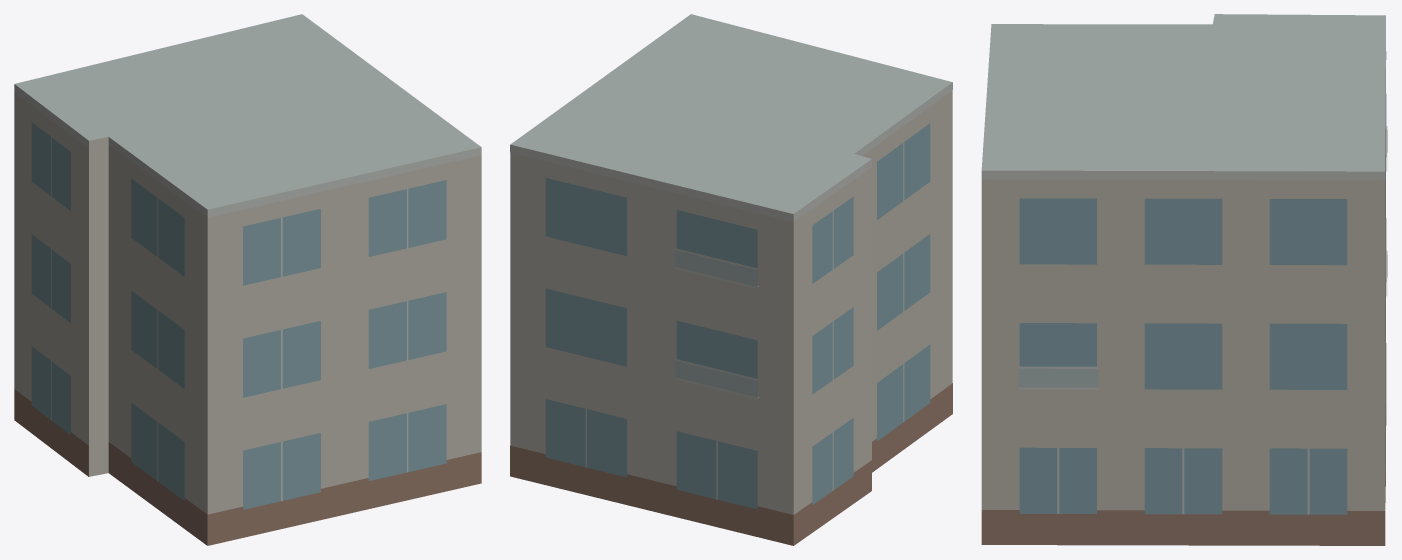
File: survey-upis-32653417.glb
The picture shows the model from 3 angles, left to right: view 1: azimuth 30°, elevation 25°; view 2: azimuth 150°, elevation 25°; view 3: azimuth 270°, elevation 25°; orthographic projection. The views are drawn at different scales.
Parts seen in each view (by area): view 1: survey-upis-32653417.tmp; view 2: survey-upis-32653417.tmp; view 3: survey-upis-32653417.tmp.
Boxes of the visible parts, <box> form: survey-upis-32653417.tmp: <box>14,14,481,545</box>; survey-upis-32653417.tmp: <box>510,14,952,545</box>; survey-upis-32653417.tmp: <box>981,14,1387,545</box>.
Size of the model in its own units: 9.22 by 10.2 by 10.03.
